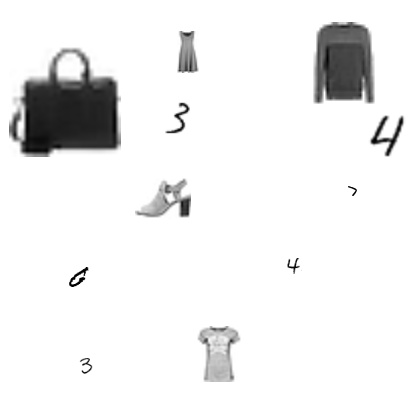0: (64, 263, 92, 291)
3: (158, 97, 200, 139), (75, 354, 97, 376)
4: (359, 106, 415, 162), (282, 254, 304, 276)
7: (346, 183, 360, 197)
Bag: (9, 45, 121, 157)
Dress: (167, 31, 209, 73)
Pullover: (302, 22, 386, 106)
Sandal: (135, 171, 191, 227)
T-shirt/top: (190, 326, 246, 382)
